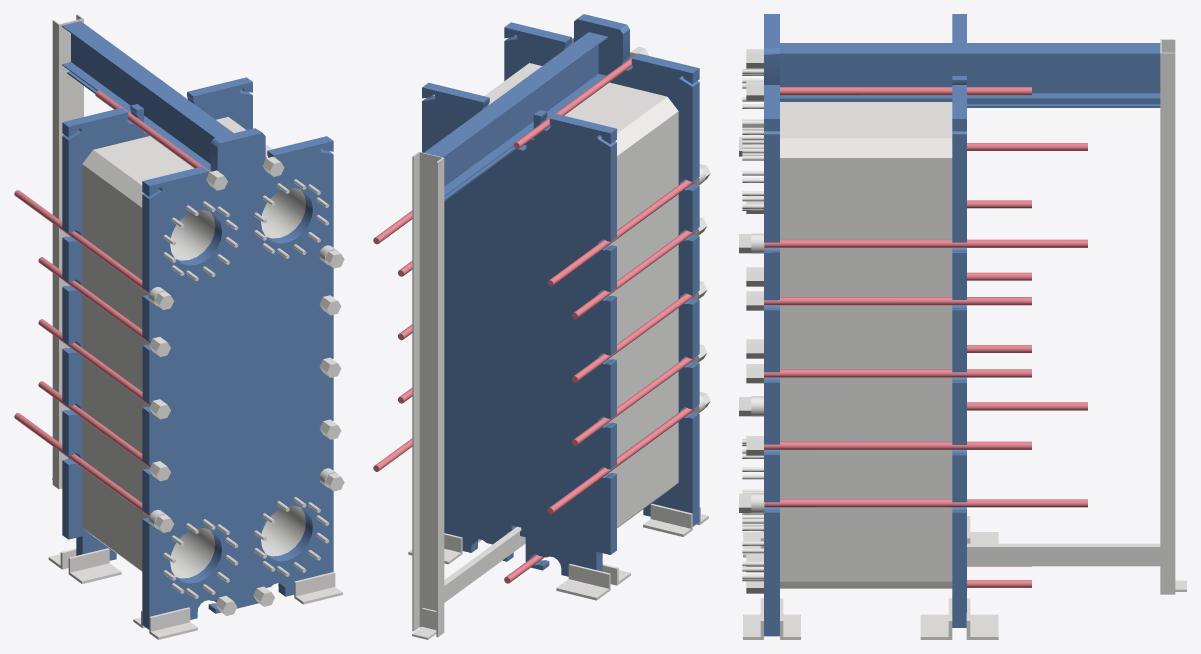
The model's file is alfa_laval_t35_draft.glb.
3 views of the same model, side by side, from view 1: azimuth 30°, elevation 25°; view 2: azimuth 150°, elevation 25°; view 3: azimuth 270°, elevation 25° (orthographic). The views are drawn at different scales.
Parts seen in each view (by area): view 1: L_39127440_bf9f_4af6_9c82_c5ece4f3a2be_I6, L_7ced0e6b_f229_4d24_871e_c41d6f81af1f_I9, L_162bd5d2_1a15_4798_ba48_6523fc2de6e2_I3, L_50cd1da1_81e6_44b4_9e31_6da2080704c2_I7, L_ccf9d600_8c00_4b73_a1eb_30f42dfc8c7d_I12, L_79b6e457_47dd_421c_9863_9f8bab91f3a9_I8, L_09c1273f_e464_4b52_8421_eca2e06a58c5_I1, L_1fecafc4_1fc8_47f8_ad3e_4f73ab40b1cd_I5, L_0a96e0d0_36da_46f0_b7d5_f9158b35efd1_I2, L_19132089_b928_418e_acb4_a5c35fda7fef_I4, L_7dbb2797_ba78_4406_84e9_8292939ef648_I10; view 2: L_162bd5d2_1a15_4798_ba48_6523fc2de6e2_I3, L_7ced0e6b_f229_4d24_871e_c41d6f81af1f_I9, L_39127440_bf9f_4af6_9c82_c5ece4f3a2be_I6, L_ccf9d600_8c00_4b73_a1eb_30f42dfc8c7d_I12, L_50cd1da1_81e6_44b4_9e31_6da2080704c2_I7, L_79b6e457_47dd_421c_9863_9f8bab91f3a9_I8, L_19132089_b928_418e_acb4_a5c35fda7fef_I4, L_ac180195_f660_4e44_a276_c2dbd5b0f468_I11, L_0a96e0d0_36da_46f0_b7d5_f9158b35efd1_I2, L_09c1273f_e464_4b52_8421_eca2e06a58c5_I1; view 3: L_7ced0e6b_f229_4d24_871e_c41d6f81af1f_I9, L_50cd1da1_81e6_44b4_9e31_6da2080704c2_I7, L_79b6e457_47dd_421c_9863_9f8bab91f3a9_I8, L_39127440_bf9f_4af6_9c82_c5ece4f3a2be_I6, L_ccf9d600_8c00_4b73_a1eb_30f42dfc8c7d_I12, L_162bd5d2_1a15_4798_ba48_6523fc2de6e2_I3, L_ac180195_f660_4e44_a276_c2dbd5b0f468_I11, L_09c1273f_e464_4b52_8421_eca2e06a58c5_I1, L_1fecafc4_1fc8_47f8_ad3e_4f73ab40b1cd_I5, L_19132089_b928_418e_acb4_a5c35fda7fef_I4, L_0a96e0d0_36da_46f0_b7d5_f9158b35efd1_I2, L_7dbb2797_ba78_4406_84e9_8292939ef648_I10.
Boxes of the visible parts, box(x1,y1,x2,y2) form: L_39127440_bf9f_4af6_9c82_c5ece4f3a2be_I6: box(142, 128, 333, 629); L_7ced0e6b_f229_4d24_871e_c41d6f81af1f_I9: box(82, 117, 305, 578); L_162bd5d2_1a15_4798_ba48_6523fc2de6e2_I3: box(62, 77, 252, 560); L_50cd1da1_81e6_44b4_9e31_6da2080704c2_I7: box(62, 21, 233, 171); L_ccf9d600_8c00_4b73_a1eb_30f42dfc8c7d_I12: box(52, 14, 83, 489); L_79b6e457_47dd_421c_9863_9f8bab91f3a9_I8: box(14, 90, 266, 602); L_09c1273f_e464_4b52_8421_eca2e06a58c5_I1: box(149, 156, 344, 615); L_1fecafc4_1fc8_47f8_ad3e_4f73ab40b1cd_I5: box(163, 179, 329, 598); L_0a96e0d0_36da_46f0_b7d5_f9158b35efd1_I2: box(133, 572, 342, 639); L_19132089_b928_418e_acb4_a5c35fda7fef_I4: box(48, 548, 121, 583); L_7dbb2797_ba78_4406_84e9_8292939ef648_I10: box(148, 245, 338, 529); L_162bd5d2_1a15_4798_ba48_6523fc2de6e2_I3: box(422, 82, 616, 576); L_7ced0e6b_f229_4d24_871e_c41d6f81af1f_I9: box(484, 63, 678, 527); L_39127440_bf9f_4af6_9c82_c5ece4f3a2be_I6: box(504, 14, 699, 526); L_ccf9d600_8c00_4b73_a1eb_30f42dfc8c7d_I12: box(412, 151, 444, 639); L_50cd1da1_81e6_44b4_9e31_6da2080704c2_I7: box(424, 32, 607, 201); L_79b6e457_47dd_421c_9863_9f8bab91f3a9_I8: box(373, 56, 695, 583); L_19132089_b928_418e_acb4_a5c35fda7fef_I4: box(408, 533, 630, 600); L_ac180195_f660_4e44_a276_c2dbd5b0f468_I11: box(444, 526, 525, 602); L_0a96e0d0_36da_46f0_b7d5_f9158b35efd1_I2: box(643, 503, 708, 536); L_09c1273f_e464_4b52_8421_eca2e06a58c5_I1: box(571, 37, 710, 408); L_7ced0e6b_f229_4d24_871e_c41d6f81af1f_I9: box(780, 102, 952, 588); L_50cd1da1_81e6_44b4_9e31_6da2080704c2_I7: box(780, 43, 1160, 107); L_79b6e457_47dd_421c_9863_9f8bab91f3a9_I8: box(764, 87, 1087, 587); L_39127440_bf9f_4af6_9c82_c5ece4f3a2be_I6: box(764, 14, 779, 636); L_ccf9d600_8c00_4b73_a1eb_30f42dfc8c7d_I12: box(1160, 39, 1186, 594); L_162bd5d2_1a15_4798_ba48_6523fc2de6e2_I3: box(952, 14, 966, 627); L_ac180195_f660_4e44_a276_c2dbd5b0f468_I11: box(967, 543, 1160, 566); L_09c1273f_e464_4b52_8421_eca2e06a58c5_I1: box(739, 49, 763, 593); L_1fecafc4_1fc8_47f8_ad3e_4f73ab40b1cd_I5: box(742, 69, 763, 581); L_19132089_b928_418e_acb4_a5c35fda7fef_I4: box(920, 516, 998, 639); L_0a96e0d0_36da_46f0_b7d5_f9158b35efd1_I2: box(743, 531, 800, 639); L_7dbb2797_ba78_4406_84e9_8292939ef648_I10: box(751, 144, 764, 513).
Bounding box in the file's own units: 1.18 × 2.87 × 2.12.
